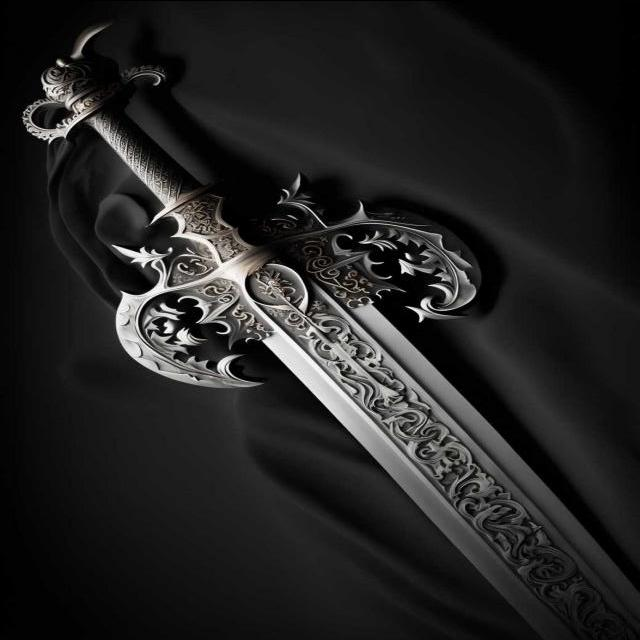sword: (18, 24, 640, 640)
